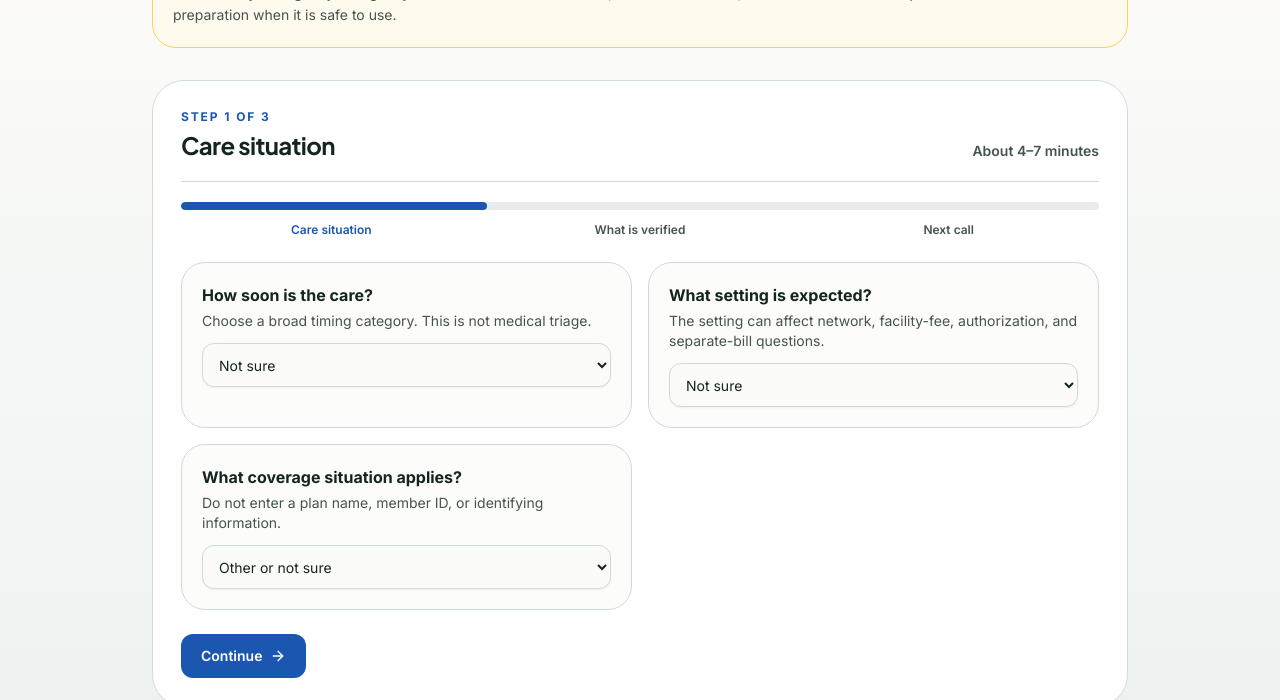
MedicalAppointmentCostPreparationPage › uses only bounded choices and produces a focused, safe Cost Preparation Plan
This screenshot has width=1280, height=700.
(page scrolled)
Select "Hospital outpatient department" in the dropdown labelled "What setting is expected?": (874, 385) [669, 363, 1078, 407]
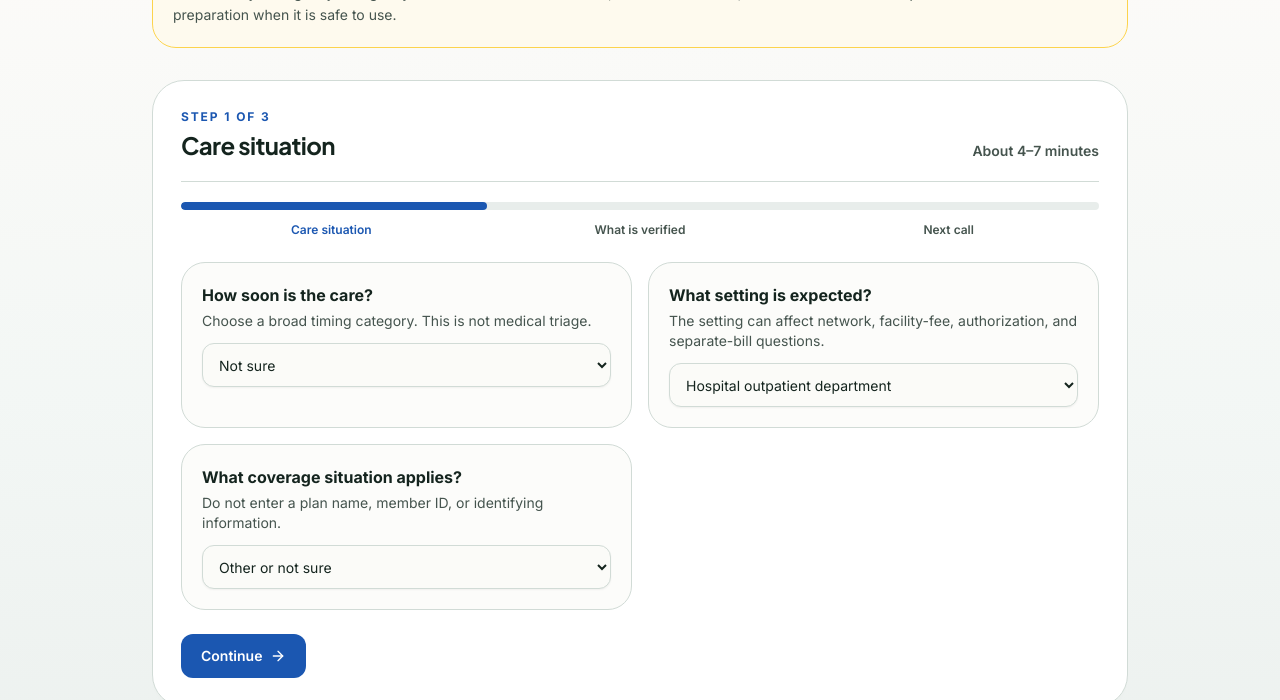
Click the button "Continue": (244, 656) [181, 634, 306, 678]
(page scrolled)
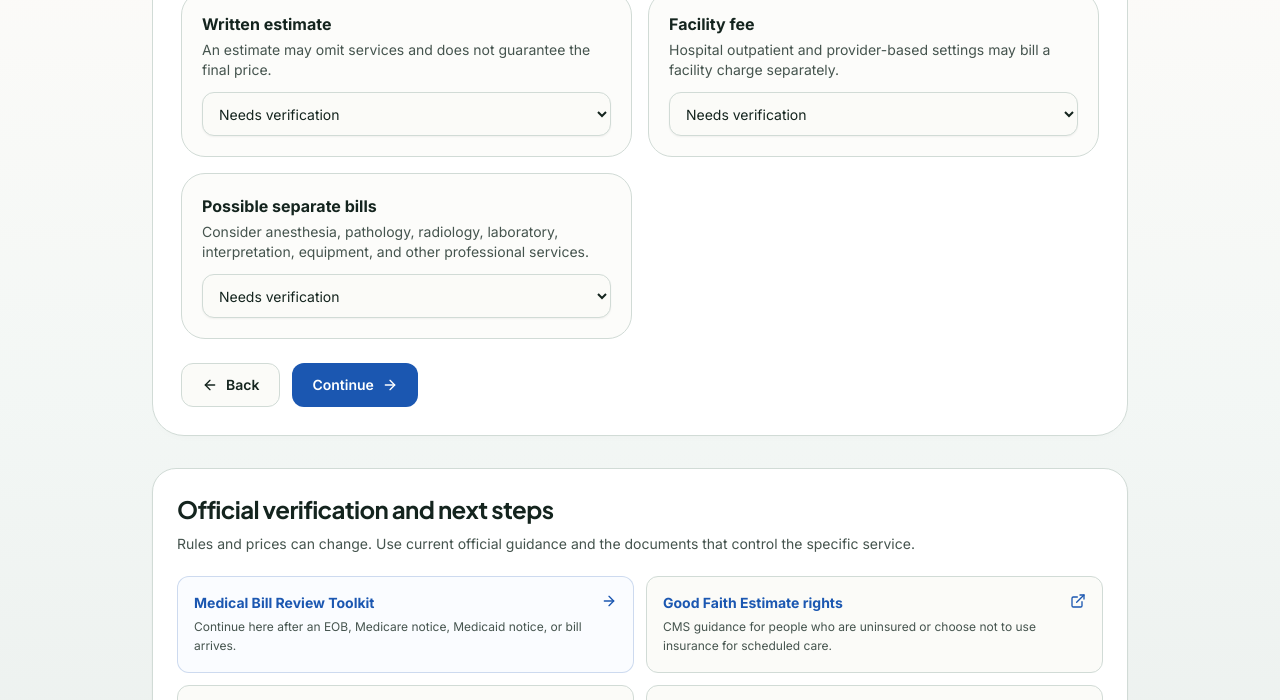
Click the button "Continue": (355, 385) [292, 363, 418, 407]
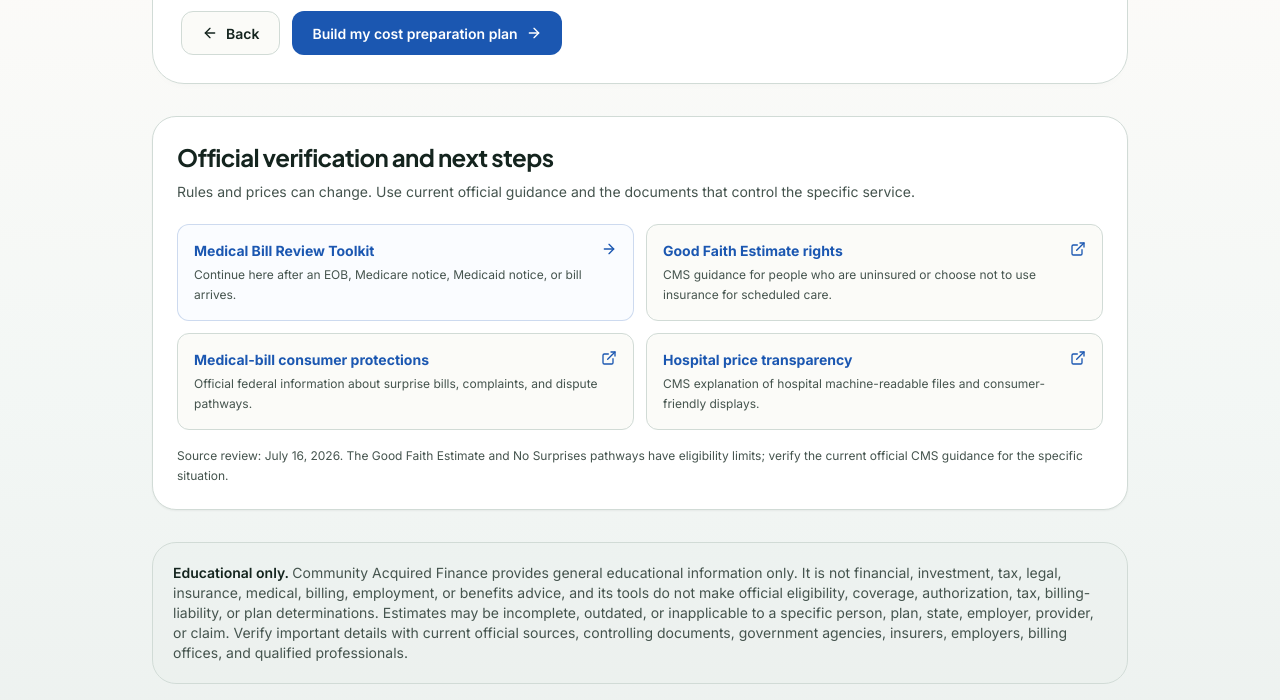
Click the button "Build my cost preparation plan": (427, 33) [292, 11, 562, 55]
(page scrolled)
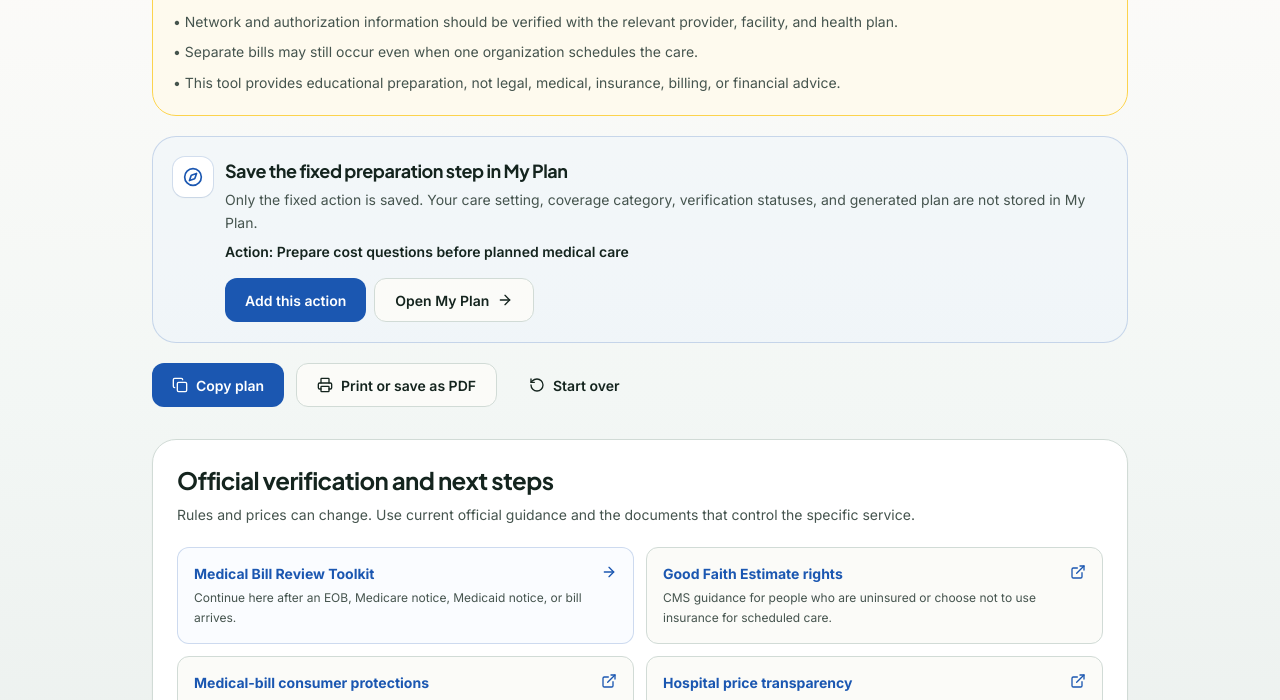
Check: the button "Copy plan" is shown, box [152, 363, 284, 407]
Check: the button "Print or save as PDF" is shown, box [296, 363, 497, 407]
Check: the button "Start over" is shown, box [509, 363, 640, 407]
